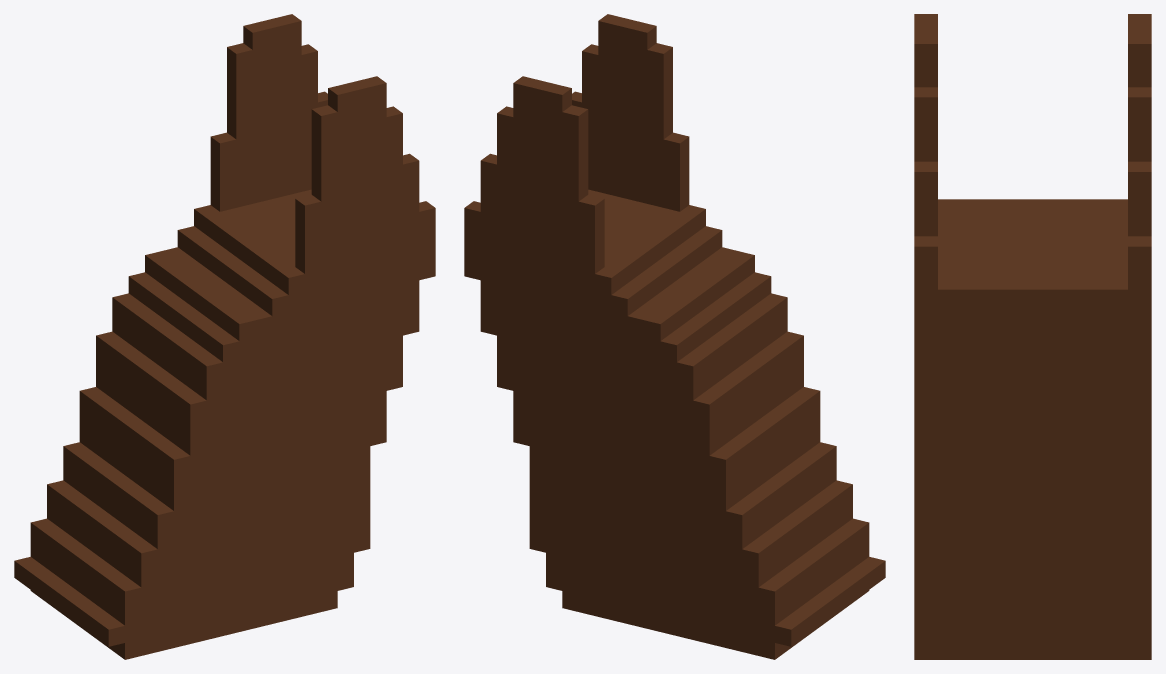
Rendered from revolver_grip.glb.
3 renders of one model, left to right at view 1: azimuth 30°, elevation 25°; view 2: azimuth 150°, elevation 25°; view 3: azimuth 270°, elevation 25°, orthographic. The views are drawn at different scales.
Parts seen in each view (by area): view 1: revolver_grip:revolver-grip; view 2: revolver_grip:revolver-grip; view 3: revolver_grip:revolver-grip.
Boxes of the visible parts, left/top/right/bottom form: revolver_grip:revolver-grip: left=14, top=14, right=435, bottom=659; revolver_grip:revolver-grip: left=464, top=14, right=885, bottom=659; revolver_grip:revolver-grip: left=914, top=14, right=1151, bottom=659.
Size of the model in its own units: 0.08 by 0.12 by 0.04.
